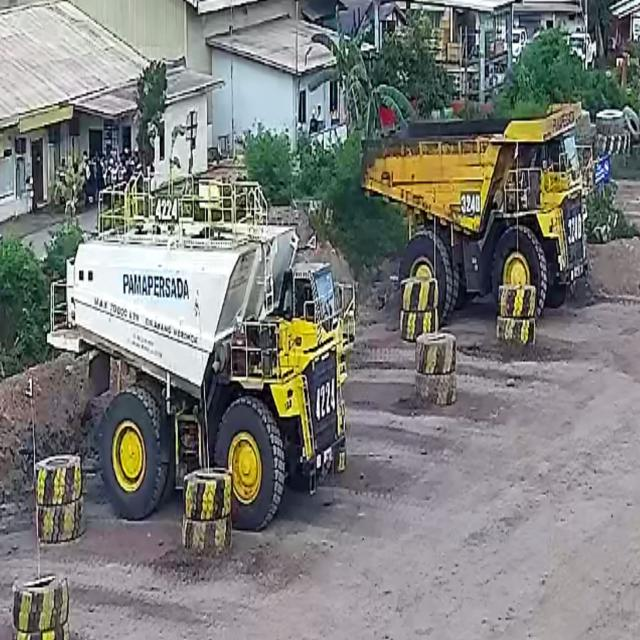dump_truck: (48, 172, 359, 556)
